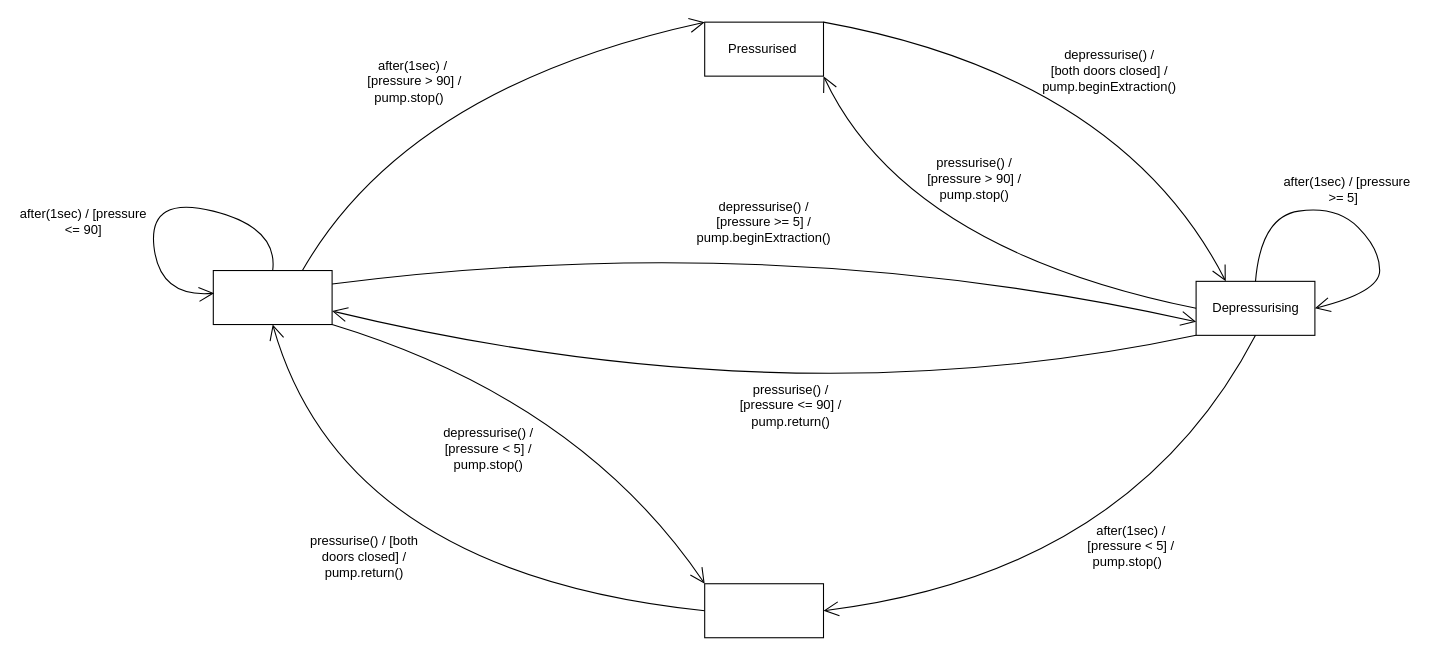
Some shapes in this 1430 by 658 pixel diagram are drawn without their labels. The shapes that lost their labels are listed below. From the top down, each one's centre as x and y in pixels, then its label:
pixel 272 297: Pressurising
pixel 764 610: Depressurised
